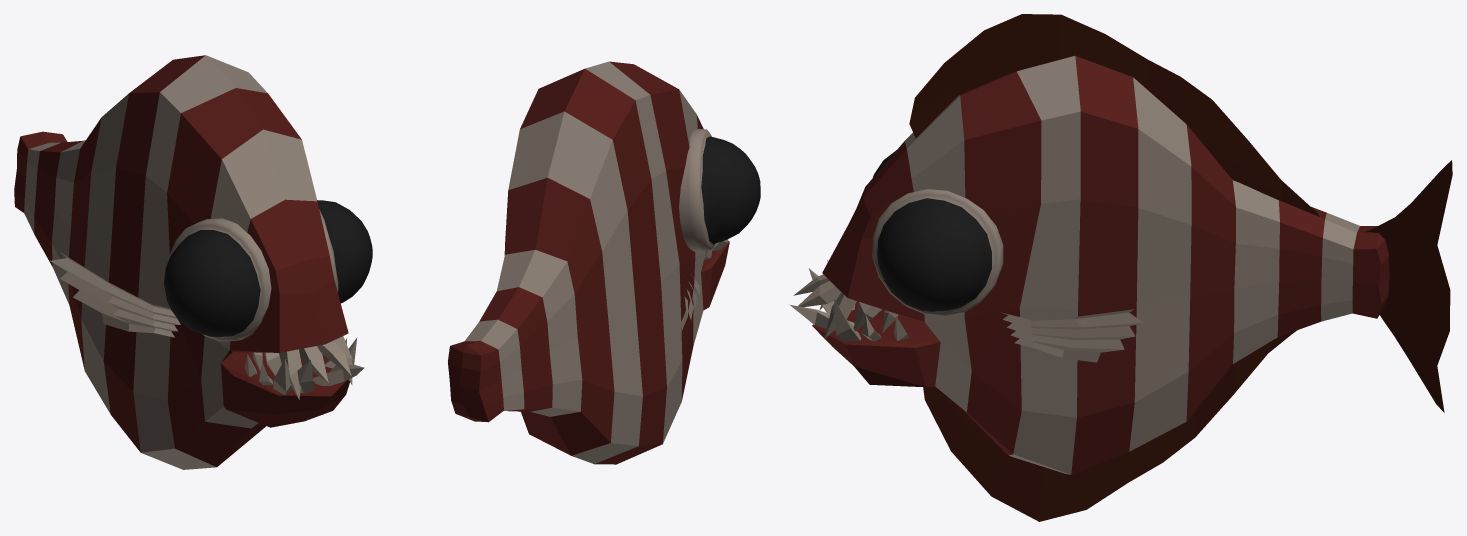
The model's file is Flatfish.glb.
The picture shows the model from 3 angles, left to right: view 1: azimuth 30°, elevation 25°; view 2: azimuth 150°, elevation 25°; view 3: azimuth 270°, elevation 25°; orthographic projection. The views are drawn at different scales.
Parts seen in each view (by area): view 1: Flatfish; view 2: Flatfish; view 3: Flatfish.
Boxes of the visible parts, x1,y1,x2,y2 form: Flatfish: (14,55,372,469); Flatfish: (448,61,760,464); Flatfish: (789,14,1452,521).
Size of the model in its own units: 2.08 by 4.04 by 4.67.
